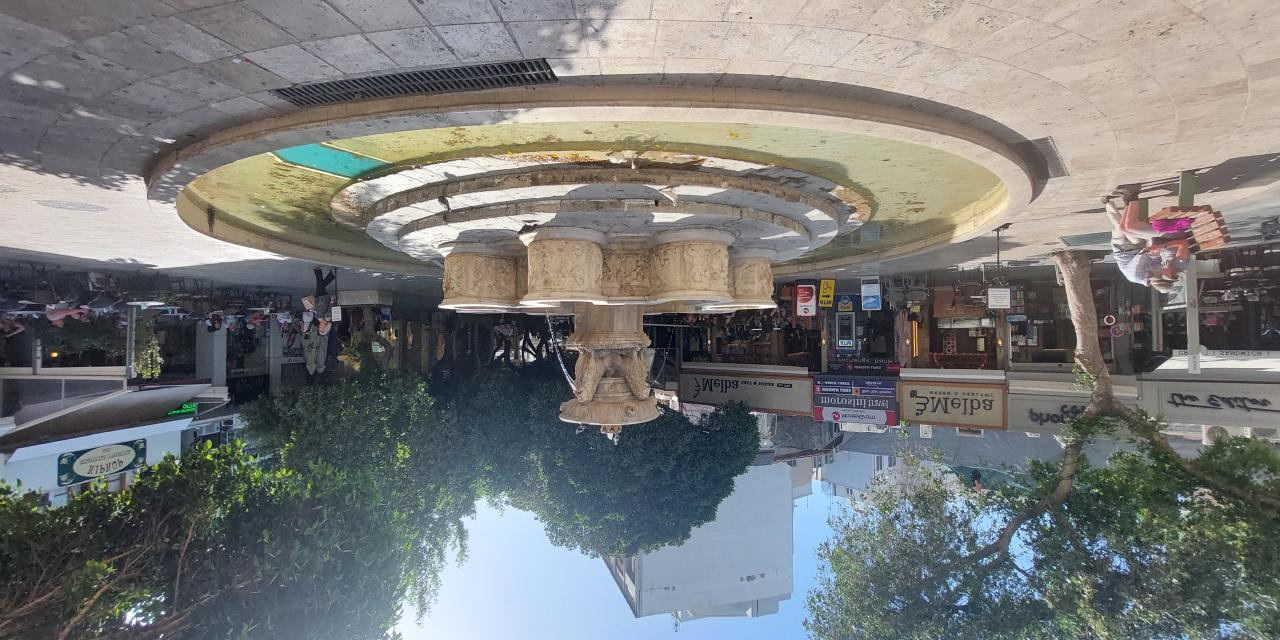Liontaria: (440, 226, 780, 436)
